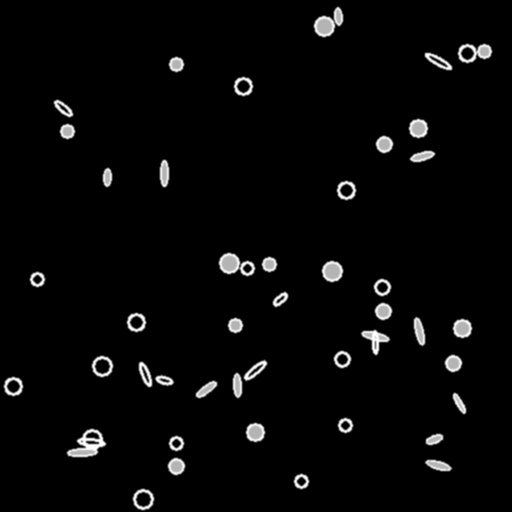pseudomonas: (424, 51, 452, 71), (243, 359, 267, 381), (195, 379, 217, 399), (138, 361, 152, 387), (53, 99, 73, 117), (362, 330, 388, 342), (425, 459, 451, 471), (413, 318, 425, 344), (410, 150, 434, 162), (452, 393, 466, 413), (78, 437, 104, 447), (68, 448, 96, 456), (272, 292, 288, 306), (425, 433, 443, 445), (155, 375, 173, 385), (233, 374, 241, 396), (161, 161, 167, 185), (334, 7, 342, 25), (372, 331, 378, 353), (103, 169, 111, 185)
synechocystis: (83, 430, 101, 448), (315, 17, 333, 35), (93, 357, 111, 375), (134, 490, 152, 508), (323, 262, 341, 280), (220, 254, 238, 272), (459, 45, 475, 61), (454, 320, 470, 336), (128, 314, 144, 330), (235, 78, 251, 94), (247, 424, 263, 440), (338, 182, 354, 198), (410, 120, 426, 136), (5, 378, 21, 394), (377, 137, 391, 151), (446, 356, 460, 370), (169, 459, 183, 473), (375, 280, 389, 294), (335, 352, 349, 366), (376, 304, 390, 318), (478, 45, 490, 57), (170, 58, 182, 70), (263, 258, 275, 270), (61, 125, 73, 137), (170, 437, 182, 449), (339, 419, 351, 431), (295, 475, 307, 487), (241, 262, 253, 274), (229, 319, 241, 331), (31, 273, 43, 285)
